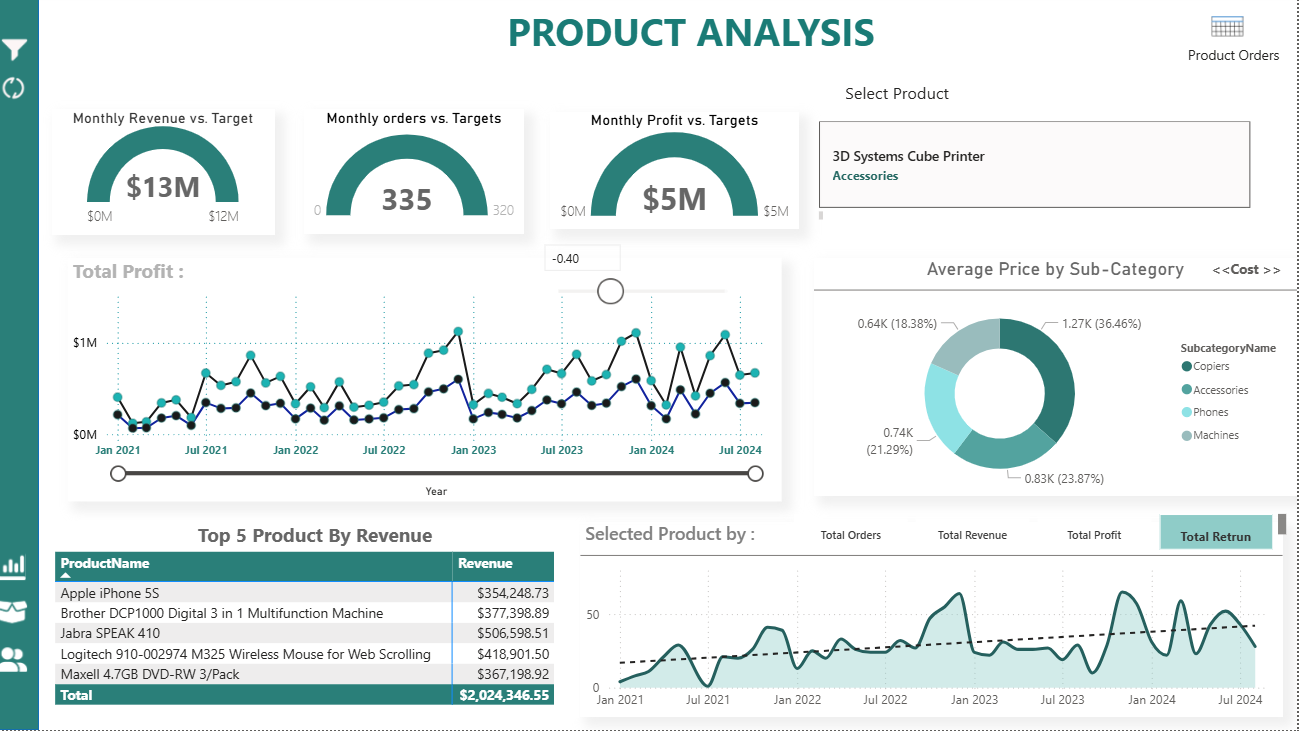

The dashboard page shown, as its layout file describes it:
{"tool":"powerbi","page":{"name":"Product Analysis","canvas":[1280,720],"ordinal":1},"visuals":[{"type":"advancedSlicerVisual","fields":{"Values":["Product lookup.ProductName"]},"box":[806.5,119.7,432.8,108.2],"z":0},{"type":"group","id":"g1","title":"Group 3","box":[806.5,257.2,472.8,233.1],"z":0,"group":"g3"},{"type":"donutChart","title":"Average Price by Sub-Category","fields":{"Category":["Product Sub-Categories  Lookup Table.SubcategoryName"],"Y":["Measure Table.Average Retail Price"]},"box":[806.5,257.2,472.8,233.1],"z":0,"group":"g1"},{"type":"areaChart","title":" Selected Product  by :","fields":{"Y":["Measure Table.Retrun"],"Category":["Calender Lookup.Date Hierarchy.Start of Month"]},"box":[578.8,516.2,687.4,191.5],"z":0,"group":"g2"},{"type":"actionButton","box":[2.4,541.7,46.2,37.5],"z":0,"group":"g4"},{"type":"gauge","title":"Monthly orders vs. Targets","fields":{"Y":["Measure Table.Total Orders"],"MaxValue":["Measure Table.Order Target"]},"box":[308.7,112.5,215.4,122.1],"z":1000},{"type":"actionButton","box":[1178,245.2,102.4,44.7],"z":1000,"group":"g3"},{"type":"advancedSlicerVisual","fields":{"Values":["Product Metric Selection.Product Metric Selection"]},"box":[782.7,503.6,491.5,45.9],"z":1000,"group":"g2"},{"type":"actionButton","box":[3.2,585.7,45.6,37.8],"z":1000,"group":"g4"},{"type":"gauge","title":"Monthly Revenue vs. Target","fields":{"Y":["Measure Table.Total Revenue"],"MaxValue":["Measure Table.Revenue Target"]},"box":[61.7,112.5,218.2,123.5],"z":2000},{"type":"actionButton","box":[3.2,632.4,45.6,37.8],"z":2000,"group":"g4"},{"type":"gauge","title":"Monthly Profit vs. Targets","fields":{"Y":["Measure Table.Total Profit"],"MaxValue":["Measure Table.Profit Target"]},"box":[548.6,115.4,243.3,115.4],"z":3000},{"type":"actionButton","box":[162.6,2.5,50.9,32.3],"z":4000},{"type":"lineChart","title":"Total Profit :","fields":{"Y":["Measure Table.Total Profit","Measure Table.Adjusted Profit"],"Category":["Calender Lookup.Start of Month.Variation.Date Hierarchy.Year","Calender Lookup.Start of Month.Variation.Date Hierarchy.Quarter","Calender Lookup.Start of Month.Variation.Date Hierarchy.Month","Calender Lookup.Start of Month.Variation.Date Hierarchy.Day"]},"box":[76.8,258,698.5,238.8],"z":5000},{"type":"shape","box":[0,0,48.9,720.2],"z":6000},{"type":"group","id":"g2","title":"Group 1","box":[578.8,503.6,695.4,204.1],"z":7000},{"type":"slicer","fields":{"Values":["Price Adjustment  %.Price Adjustment  %"]},"box":[531,234.6,212.7,70],"z":8000},{"type":"textbox","box":[832.7,80.7,227.4,45.2],"z":11000},{"type":"pivotTable","title":"Top 5 Product By Revenue","fields":{"Rows":["Product lookup.ProductName"],"Values":["Measure Table.Revenue"]},"box":[60.5,516.1,517.9,192.2],"z":12000},{"type":"group","id":"g3","title":"Group 6","box":[806.5,245.2,473.9,245.1],"z":13000},{"type":"actionButton","box":[162.6,8.7,50.9,32.3],"z":15000},{"type":"actionButton","box":[172.6,18.7,50.9,32.3],"z":16000},{"type":"actionButton","box":[8.6,34.2,33,40.4],"z":19000},{"type":"group","id":"g4","title":"Navigation Buttons","box":[2.4,541.7,46.5,127.2],"z":20000},{"type":"actionButton","box":[1188.6,8.6,51.4,46.5],"z":21000},{"type":"textbox","box":[455.5,0,553.8,81],"z":22000},{"type":"textbox","box":[1167.2,44.7,112.5,33.2],"z":23000},{"type":"actionButton","box":[7.3,74.6,33,34.2],"z":24000}]}

Visuals, with their boxes in screenshot pixels (x1, y1, x2, y2), scaled from the page's 1280x720 canvas onto the 1302x732 screenshot:
advancedSlicerVisual - Product lookup.ProductName: 820:122:1261:232
"Group 3" group: 820:261:1301:498
"Average Price by Sub-Category" donutChart: 820:261:1301:498
" Selected Product  by :" areaChart: 589:525:1288:719
actionButton: 2:551:49:589
"Monthly orders vs. Targets" gauge: 314:114:533:239
actionButton: 1198:249:1301:295
advancedSlicerVisual - Product Metric Selection.Product Metric Selection: 796:512:1296:559
actionButton: 3:595:50:634
"Monthly Revenue vs. Target" gauge: 63:114:285:240
actionButton: 3:643:50:681
"Monthly Profit vs. Targets" gauge: 558:117:806:235
actionButton: 165:3:217:35
"Total Profit :" lineChart: 78:262:789:505
shape: 0:0:50:731
"Group 1" group: 589:512:1296:719
slicer - Price Adjustment  %.Price Adjustment  %: 540:239:756:310
textbox: 847:82:1078:128
"Top 5 Product By Revenue" pivotTable: 62:525:588:720
"Group 6" group: 820:249:1301:498
actionButton: 165:9:217:42
actionButton: 176:19:227:52
actionButton: 9:35:42:76
"Navigation Buttons" group: 2:551:50:680
actionButton: 1209:9:1261:56
textbox: 463:0:1027:82
textbox: 1187:45:1301:79
actionButton: 7:76:41:111
